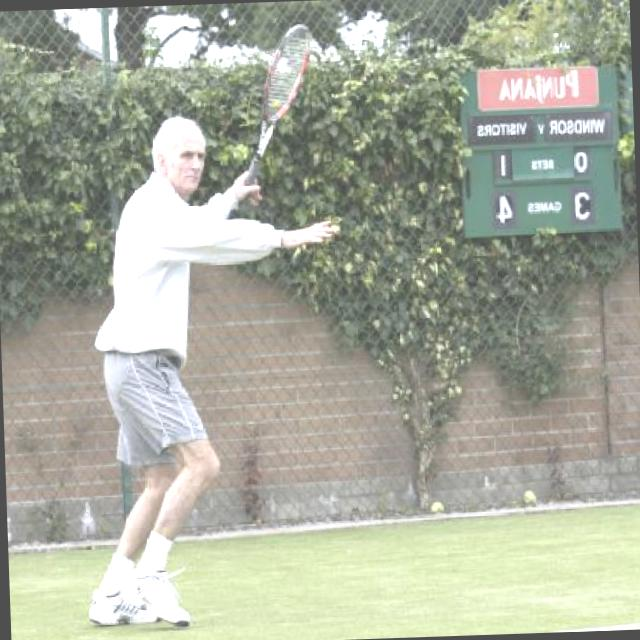Person: (70, 104, 353, 633)
